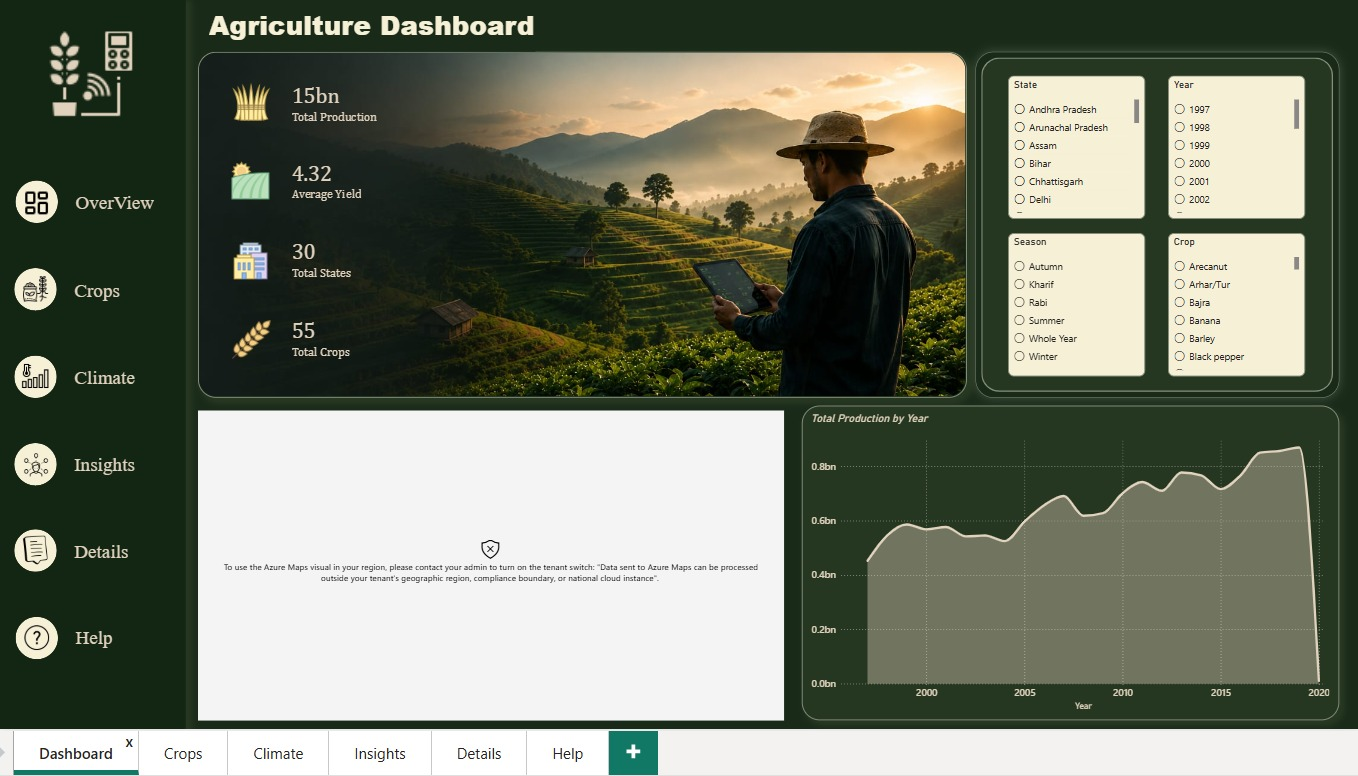

Layout of this report page (visuals, bound fields, positions):
{"tool":"powerbi","page":{"name":"Dashboard","canvas":[2275,1219],"ordinal":0},"visuals":[{"type":"shape","box":[0,0,312.5,1218.8],"z":0,"group":"g11"},{"type":"image","box":[333.3,89.6,1281.2,577.1],"z":0,"group":"g13"},{"type":"shape","box":[28.2,304.2,70.8,70.8],"z":0,"group":"g1"},{"type":"actionButton","box":[124.7,318.8,164,45],"z":0,"group":"g6"},{"type":"shape","box":[27.1,450.4,70.8,70.8],"z":0,"group":"g2"},{"type":"actionButton","box":[123.6,464.4,164,45],"z":0,"group":"g8"},{"type":"shape","box":[27.1,596.7,70.8,70.8],"z":0,"group":"g3"},{"type":"actionButton","box":[123.6,610.4,164,45],"z":0,"group":"g9"},{"type":"lineChart","fields":{"Category":["cleaned_dataset_final.Year"],"Y":["cleaned_dataset_final.Total Production"]},"box":[1339.6,679.2,895.8,525],"z":0},{"type":"shape","box":[27.1,740.8,70.8,70.8],"z":0,"group":"g4"},{"type":"actionButton","box":[123.6,754.2,164,45],"z":0,"group":"g10"},{"type":"shape","box":[27.1,885,70.8,70.8],"z":0,"group":"g5"},{"type":"actionButton","box":[123.6,899.3,164,45],"z":0,"group":"g7"},{"type":"shape","box":[28.5,1031.2,70.8,70.8],"z":0,"group":"g12"},{"type":"shape","box":[350,0,545.8,89.6],"z":1000,"group":"g13"},{"type":"image","box":[62.5,45.8,187.5,160.4],"z":1000,"group":"g11"},{"type":"shape","box":[1629.2,89.6,606.2,577.1],"z":1000},{"type":"group","id":"g1","title":"Dashboard B image","box":[28.2,304.2,70.8,70.8],"z":1000,"group":"g6"},{"type":"image","box":[35.6,318.8,54.2,45.8],"z":1000,"group":"g1"},{"type":"group","id":"g2","title":"Crop B image","box":[27.1,450.4,70.8,70.8],"z":1000,"group":"g8"},{"type":"image","box":[34.5,462.2,54,45],"z":1000,"group":"g2"},{"type":"group","id":"g3","title":"Climate B image","box":[27.1,596.7,70.8,70.8],"z":1000,"group":"g9"},{"type":"image","box":[34.5,607.8,54,45.8],"z":1000,"group":"g3"},{"type":"group","id":"g4","title":"Insights B image","box":[27.1,740.8,70.8,70.8],"z":1000,"group":"g10"},{"type":"image","box":[34.5,753.3,56,48],"z":1000,"group":"g4"},{"type":"group","id":"g5","title":"Details B image","box":[27.1,885,70.8,70.8],"z":1000,"group":"g7"},{"type":"image","box":[27.1,891.2,70.8,56.2],"z":1000,"group":"g5"},{"type":"image","box":[35.9,1043.7,54,45],"z":1000,"group":"g12"},{"type":"cardVisual","fields":{"Data":["cleaned_dataset_final.Total Production"]},"box":[460.4,120,215.6,120],"z":2000,"group":"g13"},{"type":"listSlicer","fields":{"Values":["cleaned_dataset_final.State"]},"box":[1683.3,129.2,229.2,239.6],"z":2000},{"type":"group","id":"g6","title":"Dashboard","box":[28.2,304.2,260.5,70.8],"z":2000,"group":"g11"},{"type":"actionButton","box":[124.3,1043.7,164,45],"z":2000,"group":"g12"},{"type":"listSlicer","fields":{"Values":["cleaned_dataset_final.Year"]},"box":[1950,129.2,229.2,239.6],"z":3000},{"type":"cardVisual","fields":{"Data":["cleaned_dataset_final.Average Yield"]},"box":[460.4,250.6,215.6,120],"z":3000,"group":"g13"},{"type":"group","id":"g7","title":"Details","box":[27.1,885,262.5,70.8],"z":3000,"group":"g11"},{"type":"cardVisual","fields":{"Data":["cleaned_dataset_final.Total States"]},"box":[460.4,381.1,215.6,120],"z":4000,"group":"g13"},{"type":"listSlicer","fields":{"Values":["cleaned_dataset_final.Crop"]},"box":[1950,391.7,229.2,239.6],"z":4000},{"type":"group","id":"g8","title":"Crops","box":[27.1,450.4,262.5,70.8],"z":4000,"group":"g11"},{"type":"listSlicer","fields":{"Values":["cleaned_dataset_final.Season"]},"box":[1683.3,391.7,229.2,239.6],"z":5000},{"type":"cardVisual","fields":{"Data":["cleaned_dataset_final.Total Crops"]},"box":[460.4,511.7,215.6,120],"z":5000,"group":"g13"},{"type":"group","id":"g9","title":"Climate","box":[27.1,596.7,262.5,68.8],"z":5000,"group":"g11"},{"type":"image","box":[375.7,403.5,92,66.7],"z":6000,"group":"g13"},{"type":"azureMap","fields":{"Category":["cleaned_dataset_final.State"],"Size":["cleaned_dataset_final.Total Production"]},"box":[333.3,687.5,977.1,516.7],"z":6000},{"type":"group","id":"g10","title":"Insights","box":[27.1,740.8,262.5,68.8],"z":6000,"group":"g11"},{"type":"group","id":"g11","title":"Side bar","box":[0,0,312.5,1218.8],"z":7000},{"type":"image","box":[378.9,139.6,85.6,66.7],"z":7000,"group":"g13"},{"type":"group","id":"g12","title":"Help B image","box":[28.5,1031.2,259.8,70.8],"z":7000,"group":"g11"},{"type":"group","id":"g13","title":"image with kpis , title","box":[333.3,0,1281.2,666.7],"z":8000},{"type":"image","box":[378.6,535.4,86.2,67],"z":8000,"group":"g13"},{"type":"image","box":[377.9,271.5,87.7,66.7],"z":9000,"group":"g13"}]}

Visuals, with their boxes on the page's 2275x1219 design canvas (x1, y1, x2, y2). These are canvas units, not pixel positions in the 1358x776 screenshot, which may show the page scaled, cropped or inside an application window:
shape: x1=0, y1=0, x2=312, y2=1219
image: x1=333, y1=90, x2=1614, y2=667
shape: x1=28, y1=304, x2=99, y2=375
actionButton: x1=125, y1=319, x2=289, y2=364
shape: x1=27, y1=450, x2=98, y2=521
actionButton: x1=124, y1=464, x2=288, y2=509
shape: x1=27, y1=597, x2=98, y2=668
actionButton: x1=124, y1=610, x2=288, y2=655
lineChart - cleaned_dataset_final.Year x cleaned_dataset_final.Total Production: x1=1340, y1=679, x2=2235, y2=1204
shape: x1=27, y1=741, x2=98, y2=812
actionButton: x1=124, y1=754, x2=288, y2=799
shape: x1=27, y1=885, x2=98, y2=956
actionButton: x1=124, y1=899, x2=288, y2=944
shape: x1=28, y1=1031, x2=99, y2=1102
shape: x1=350, y1=0, x2=896, y2=90
image: x1=62, y1=46, x2=250, y2=206
shape: x1=1629, y1=90, x2=2235, y2=667
"Dashboard B image" group: x1=28, y1=304, x2=99, y2=375
image: x1=36, y1=319, x2=90, y2=365
"Crop B image" group: x1=27, y1=450, x2=98, y2=521
image: x1=34, y1=462, x2=88, y2=507
"Climate B image" group: x1=27, y1=597, x2=98, y2=668
image: x1=34, y1=608, x2=88, y2=654
"Insights B image" group: x1=27, y1=741, x2=98, y2=812
image: x1=34, y1=753, x2=90, y2=801
"Details B image" group: x1=27, y1=885, x2=98, y2=956
image: x1=27, y1=891, x2=98, y2=947
image: x1=36, y1=1044, x2=90, y2=1089
cardVisual - cleaned_dataset_final.Total Production: x1=460, y1=120, x2=676, y2=240
listSlicer - cleaned_dataset_final.State: x1=1683, y1=129, x2=1912, y2=369
"Dashboard" group: x1=28, y1=304, x2=289, y2=375
actionButton: x1=124, y1=1044, x2=288, y2=1089
listSlicer - cleaned_dataset_final.Year: x1=1950, y1=129, x2=2179, y2=369
cardVisual - cleaned_dataset_final.Average Yield: x1=460, y1=251, x2=676, y2=371
"Details" group: x1=27, y1=885, x2=290, y2=956
cardVisual - cleaned_dataset_final.Total States: x1=460, y1=381, x2=676, y2=501
listSlicer - cleaned_dataset_final.Crop: x1=1950, y1=392, x2=2179, y2=631
"Crops" group: x1=27, y1=450, x2=290, y2=521
listSlicer - cleaned_dataset_final.Season: x1=1683, y1=392, x2=1912, y2=631
cardVisual - cleaned_dataset_final.Total Crops: x1=460, y1=512, x2=676, y2=632
"Climate" group: x1=27, y1=597, x2=290, y2=666
image: x1=376, y1=404, x2=468, y2=470
azureMap - cleaned_dataset_final.State x cleaned_dataset_final.Total Production: x1=333, y1=688, x2=1310, y2=1204
"Insights" group: x1=27, y1=741, x2=290, y2=810
"Side bar" group: x1=0, y1=0, x2=312, y2=1219
image: x1=379, y1=140, x2=464, y2=206
"Help B image" group: x1=28, y1=1031, x2=288, y2=1102
"image with kpis , title" group: x1=333, y1=0, x2=1614, y2=667
image: x1=379, y1=535, x2=465, y2=602
image: x1=378, y1=272, x2=466, y2=338
